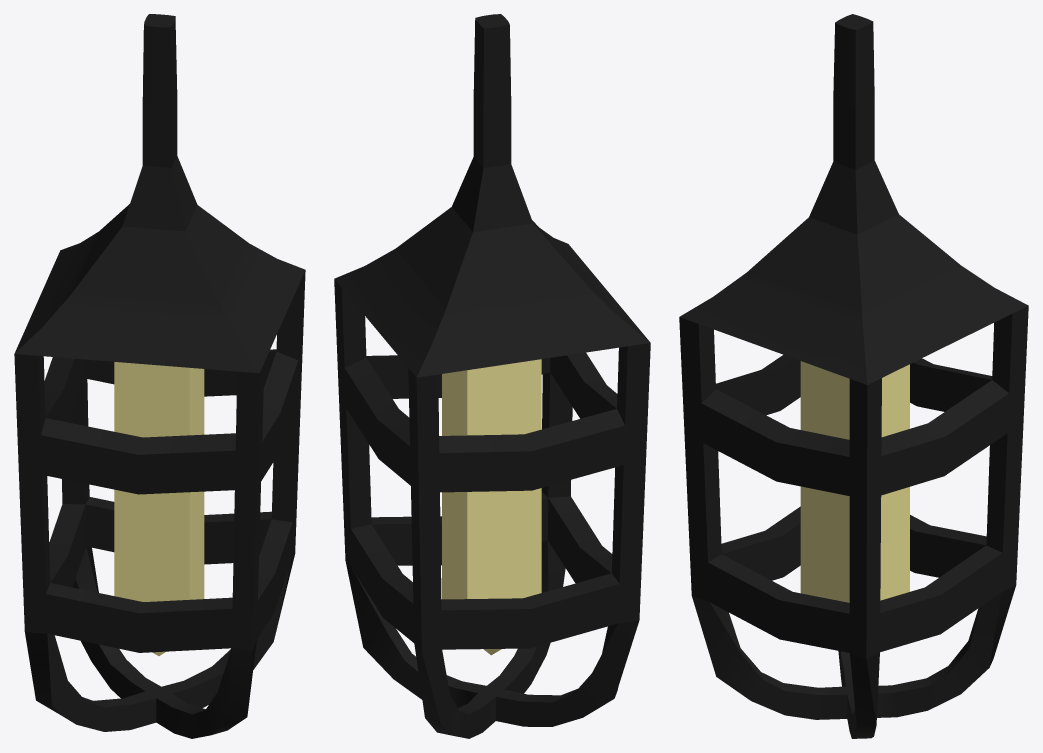
File: Laterne.fbx
3 views of the same model, side by side, from view 1: azimuth 30°, elevation 25°; view 2: azimuth 150°, elevation 25°; view 3: azimuth 270°, elevation 25° (orthographic).
Parts seen in each view (by area): view 1: Laterne; view 2: Laterne; view 3: Laterne.
Boxes of the visible parts, bbox=[...] form: Laterne: bbox=[14, 14, 305, 738]; Laterne: bbox=[334, 14, 650, 738]; Laterne: bbox=[679, 14, 1028, 738].
Bounding box in the file's own units: 0.1157 × 0.2528 × 0.1157.
